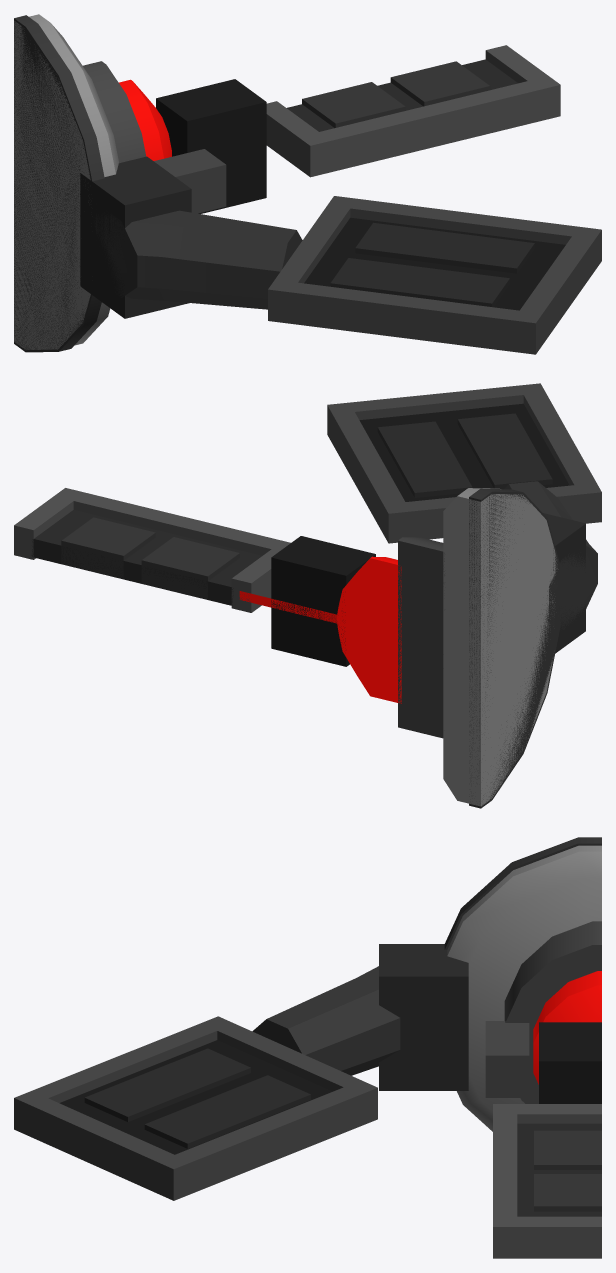
The model's file is newshl-47.glb.
3 views of the same model, one above another, from view 1: azimuth 30°, elevation 25°; view 2: azimuth 150°, elevation 25°; view 3: azimuth 270°, elevation 25° (orthographic). The views are drawn at different scales.
Parts seen in each view (by area): view 1: newshl-47; view 2: newshl-47; view 3: newshl-47.
Boxes of the visible parts, box(x1,y1,x2,y2) form: newshl-47: box(14, 14, 601, 354); newshl-47: box(14, 383, 601, 808); newshl-47: box(14, 837, 601, 1258).
Bounding box in the file's own units: 1.97 × 1.24 × 2.02.
